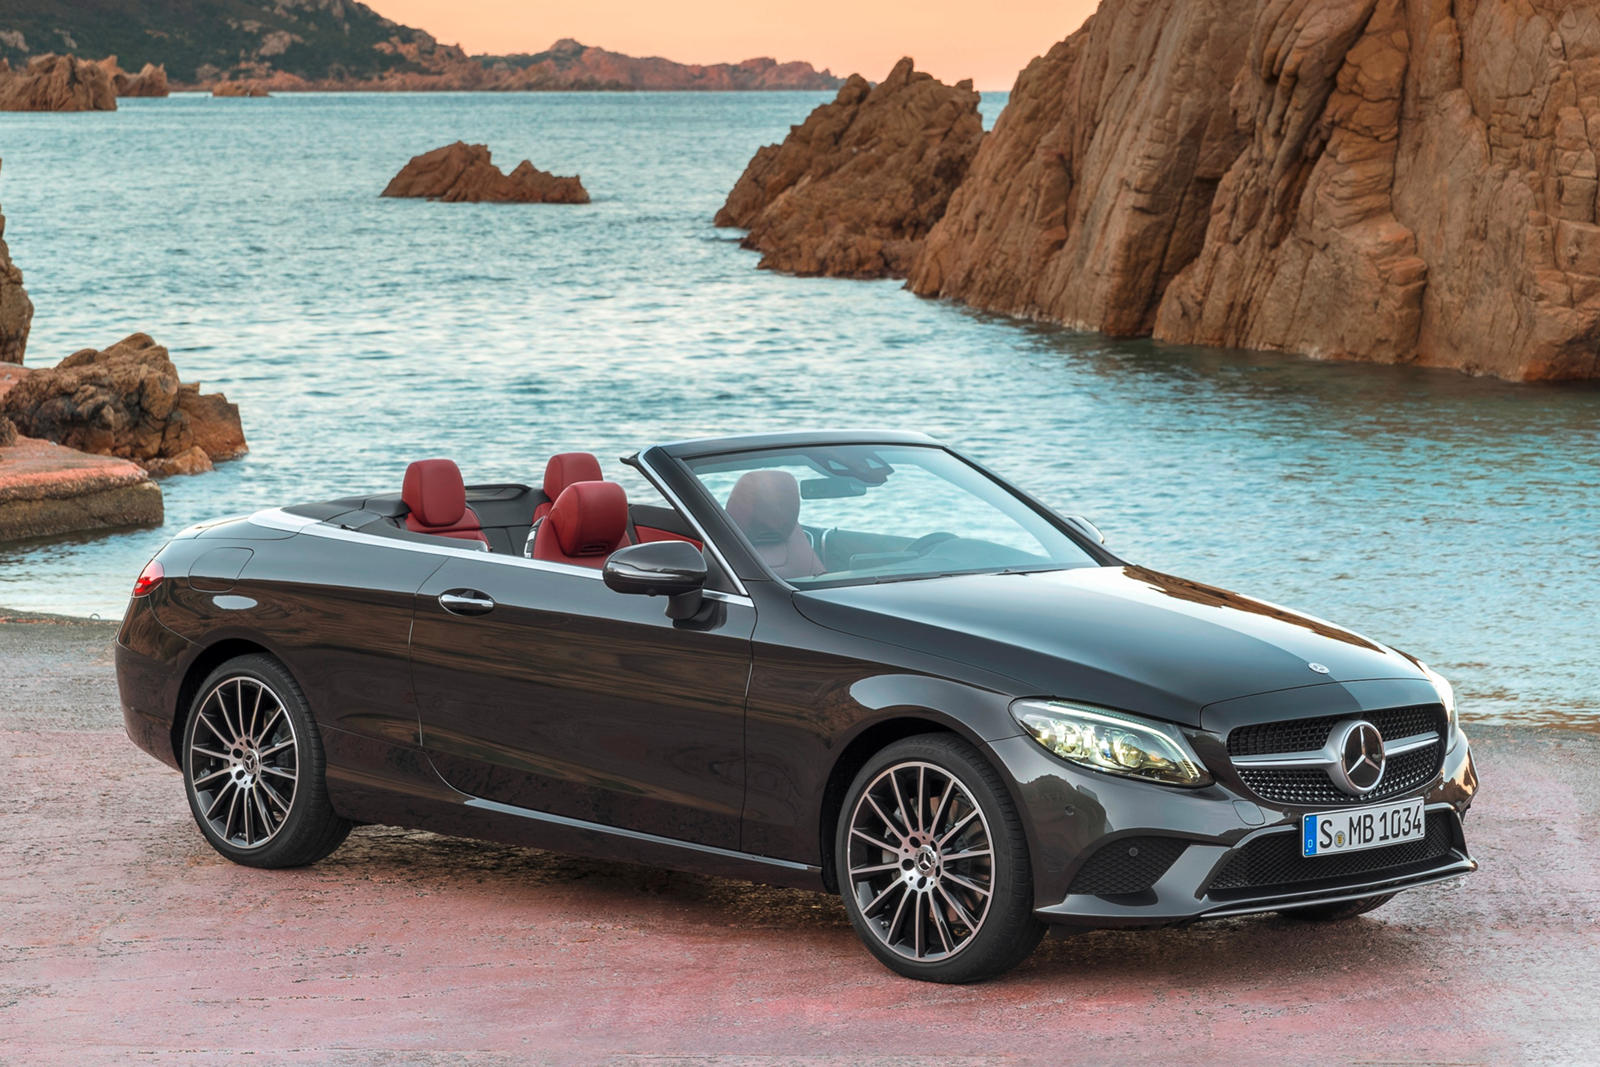car: (117, 430, 1480, 985)
